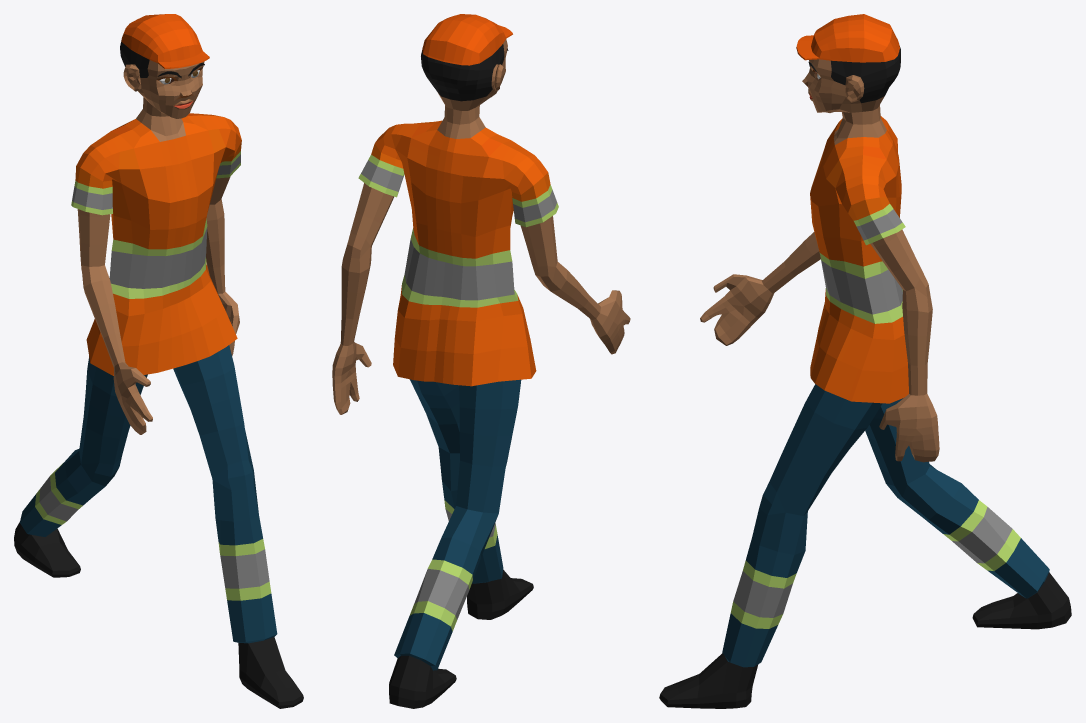
The model's file is Garbageman_Walk.fbx.
The picture shows the model from 3 angles, left to right: view 1: azimuth 30°, elevation 25°; view 2: azimuth 150°, elevation 25°; view 3: azimuth 270°, elevation 25°; orthographic projection. The views are drawn at different scales.
Parts seen in each view (by area): view 1: Garbageman_Walk; view 2: Garbageman_Walk; view 3: Garbageman_Walk.
Boxes of the visible parts, bbox=[...] form: Garbageman_Walk: bbox=[14, 14, 303, 708]; Garbageman_Walk: bbox=[332, 14, 630, 708]; Garbageman_Walk: bbox=[659, 14, 1071, 708].
Bounding box in the file's own units: 0.3234 × 1.02 × 0.5758.
